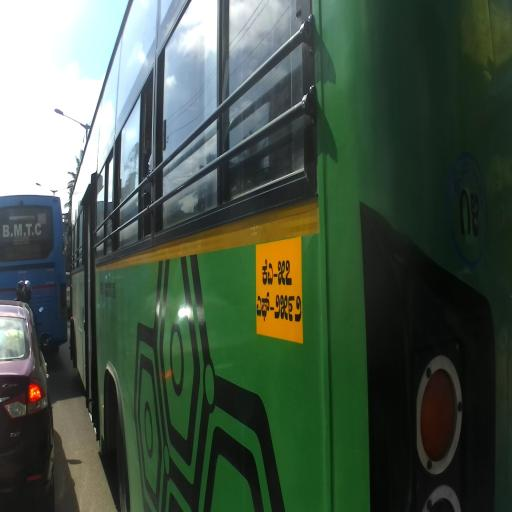street_light_0: (54, 108, 87, 140), (52, 183, 73, 197), (35, 183, 55, 196)
